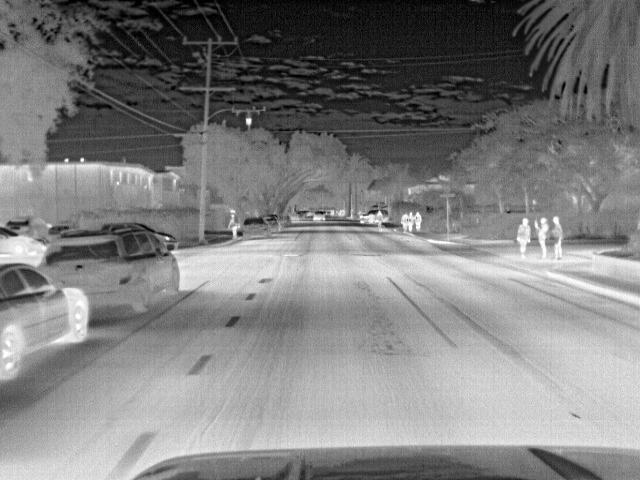car: (42, 225, 181, 320), (2, 264, 93, 386), (1, 225, 46, 259), (7, 216, 44, 242), (240, 218, 271, 239), (359, 207, 391, 225), (261, 218, 280, 234), (307, 212, 325, 223)
person: (515, 214, 533, 256), (550, 215, 567, 256), (535, 215, 550, 257), (228, 214, 241, 241), (373, 209, 387, 232), (412, 209, 424, 232), (406, 210, 418, 232)
